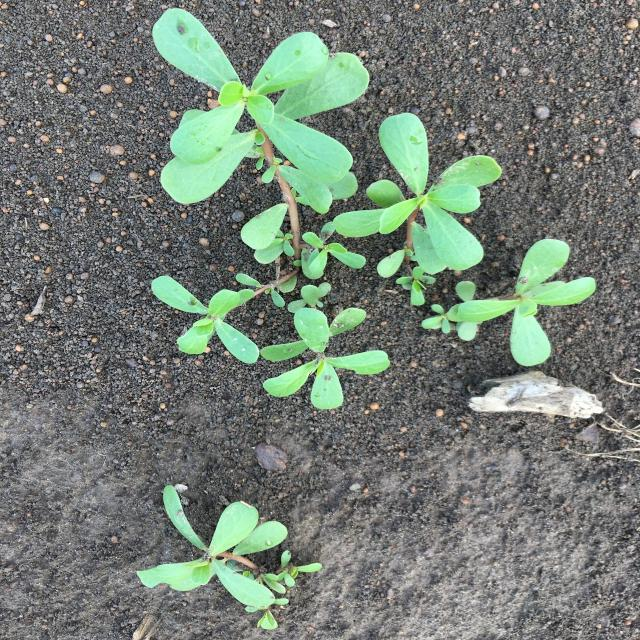Purslane: (151, 8, 370, 364), (333, 113, 502, 306), (137, 485, 322, 630), (421, 238, 597, 367), (260, 282, 391, 410)
